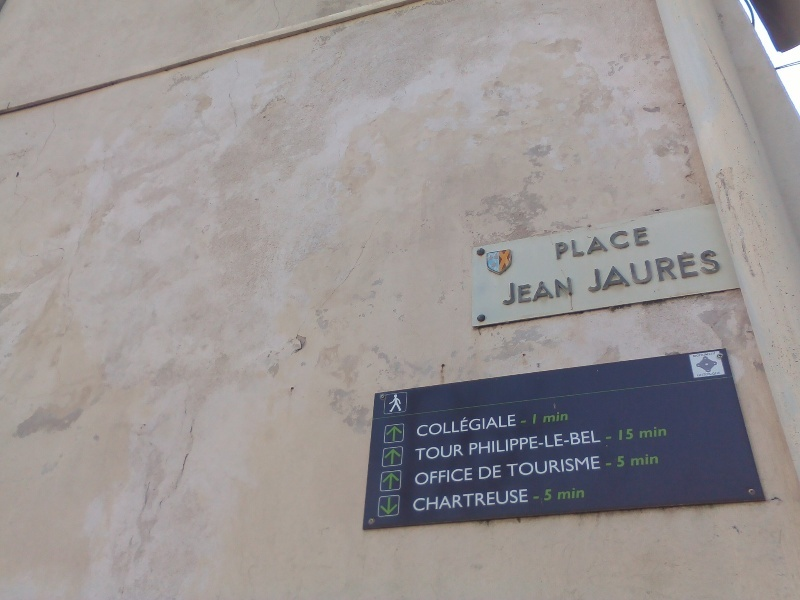text: (593, 246, 608, 293), (609, 246, 624, 293), (625, 246, 640, 293), (641, 246, 656, 293), (657, 246, 672, 293), (673, 246, 688, 293), (689, 246, 704, 293), (705, 246, 720, 293), (561, 225, 576, 261), (577, 225, 592, 261), (593, 225, 608, 261), (609, 225, 624, 261), (625, 225, 640, 261), (513, 274, 528, 306), (529, 274, 544, 306), (545, 274, 560, 306), (417, 409, 432, 440), (433, 409, 448, 440), (449, 409, 464, 440), (465, 409, 480, 440), (481, 409, 496, 440), (497, 409, 512, 440), (481, 428, 496, 458), (497, 428, 512, 458), (513, 428, 528, 458), (529, 428, 544, 458), (545, 428, 560, 458), (561, 428, 576, 458), (577, 428, 592, 458), (561, 274, 575, 306), (417, 487, 432, 515), (433, 487, 448, 515), (449, 487, 464, 515), (465, 487, 480, 515), (481, 487, 496, 515), (497, 487, 512, 515), (513, 487, 528, 515), (467, 428, 480, 458), (641, 225, 651, 261), (417, 465, 432, 489), (433, 465, 448, 489), (449, 465, 464, 489), (513, 455, 528, 479), (529, 455, 544, 479), (545, 455, 560, 479), (561, 455, 576, 479), (577, 455, 592, 479), (449, 442, 465, 464), (417, 442, 432, 464), (433, 442, 448, 464), (502, 274, 512, 306), (481, 463, 496, 483), (561, 485, 576, 504), (586, 246, 592, 293), (593, 428, 602, 458), (465, 465, 476, 489), (641, 453, 656, 470), (545, 409, 560, 426), (641, 425, 656, 442), (593, 455, 603, 479), (530, 410, 544, 427), (657, 425, 670, 442), (625, 426, 637, 444), (554, 225, 560, 261), (577, 485, 588, 504), (628, 453, 640, 470), (561, 409, 572, 426), (513, 409, 519, 440), (505, 455, 512, 479), (411, 487, 416, 515), (545, 488, 554, 503), (617, 426, 624, 444), (616, 455, 624, 470), (497, 463, 503, 483), (705, 371, 720, 378), (691, 352, 704, 358), (556, 485, 560, 504), (413, 465, 416, 489), (705, 352, 717, 358), (657, 453, 661, 470), (413, 442, 416, 464), (414, 409, 416, 440), (477, 463, 480, 483), (529, 487, 531, 515), (541, 409, 544, 426), (697, 371, 704, 378), (721, 246, 722, 293), (638, 425, 640, 442), (625, 455, 627, 470), (543, 488, 544, 503), (721, 371, 723, 378)
